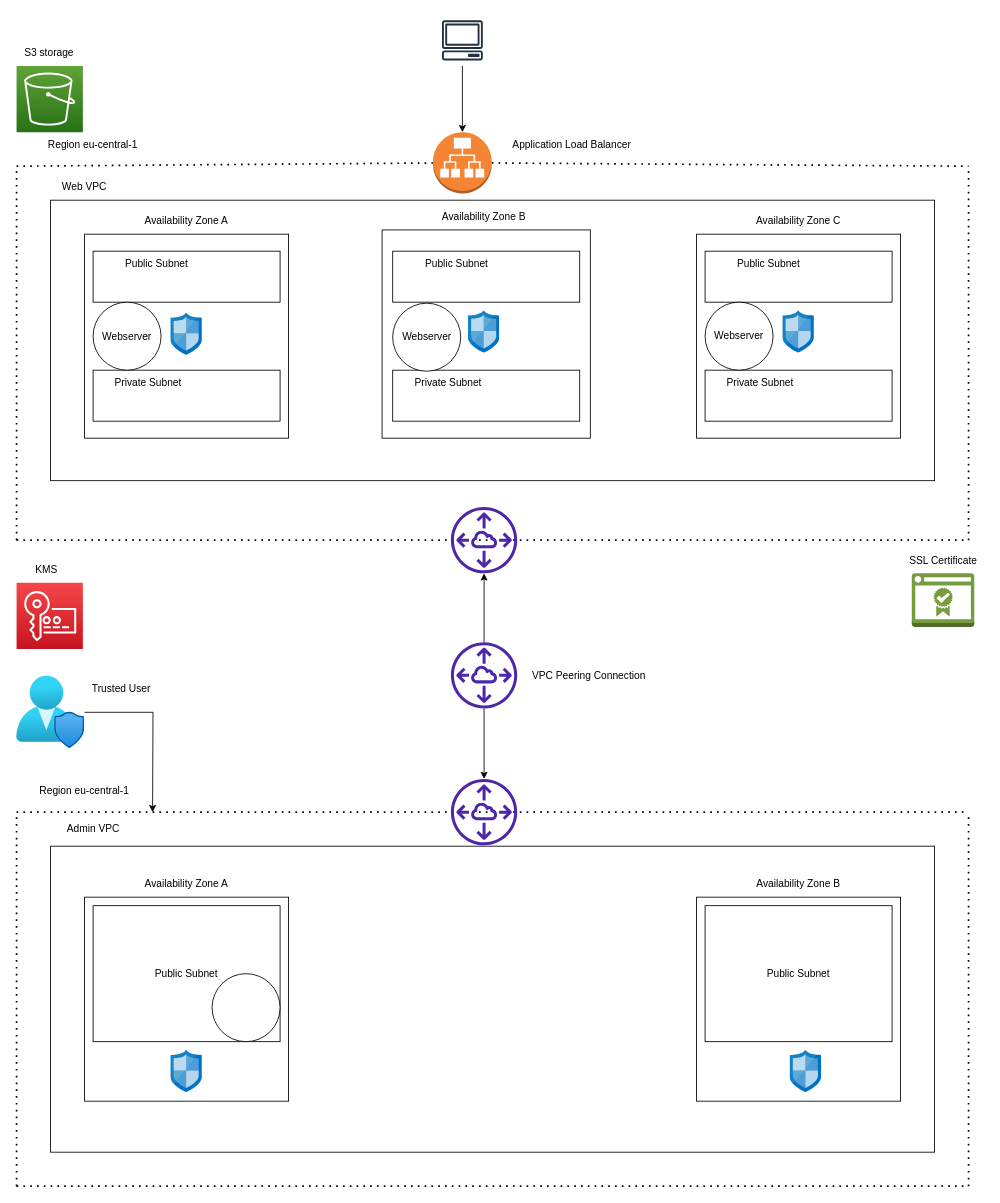
This 1000x1203 diagram has some shape labels left out. Each missing label, with the centre of its shape:
"Admin server" goes at point 245,1007.
"Client" goes at point 462,40.
